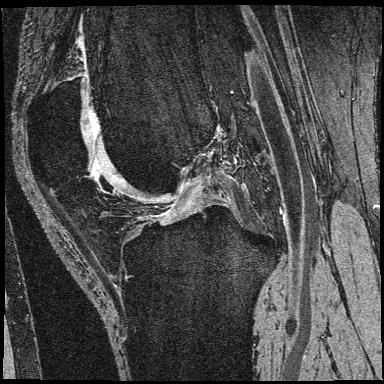SagKneeJointArea: (26, 76, 278, 315)
